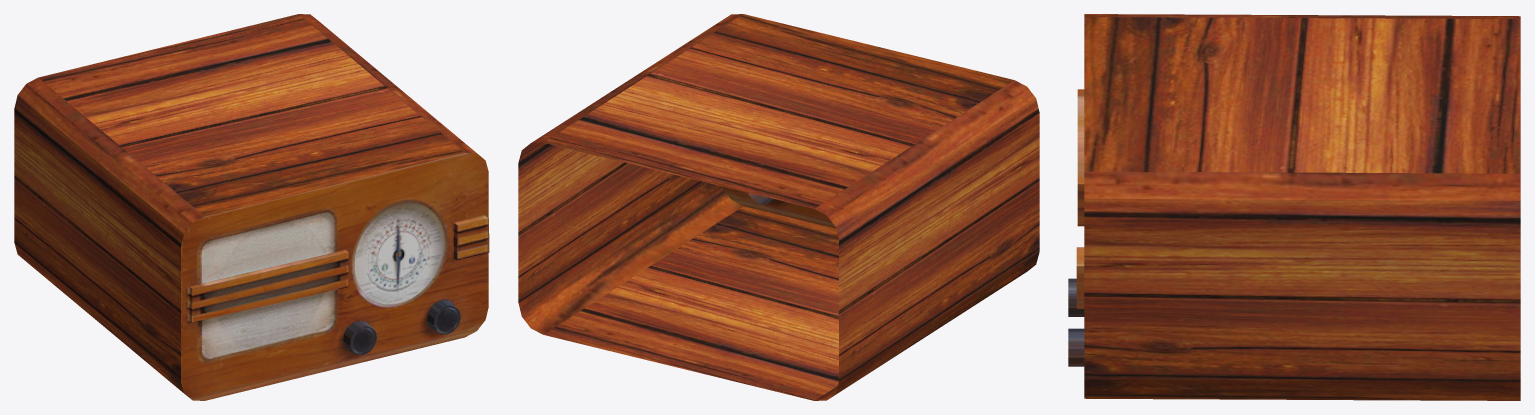
The model's file is Radio.fbx.
3 renders of one model, left to right at view 1: azimuth 30°, elevation 25°; view 2: azimuth 150°, elevation 25°; view 3: azimuth 270°, elevation 25°, orthographic. The views are drawn at different scales.
Parts seen in each view (by area): view 1: Cube, Cylinder; view 2: Cube; view 3: Cube, Cylinder.
Part boxes in pixels (left/top/right/bottom): Cube: left=14, top=14, right=489, bottom=400; Cylinder: left=343, top=301, right=460, bottom=354; Cube: left=518, top=14, right=1039, bottom=400; Cube: left=1076, top=14, right=1520, bottom=400; Cylinder: left=1068, top=278, right=1084, bottom=366.
Size of the model in its own units: 208 by 117 by 209.
